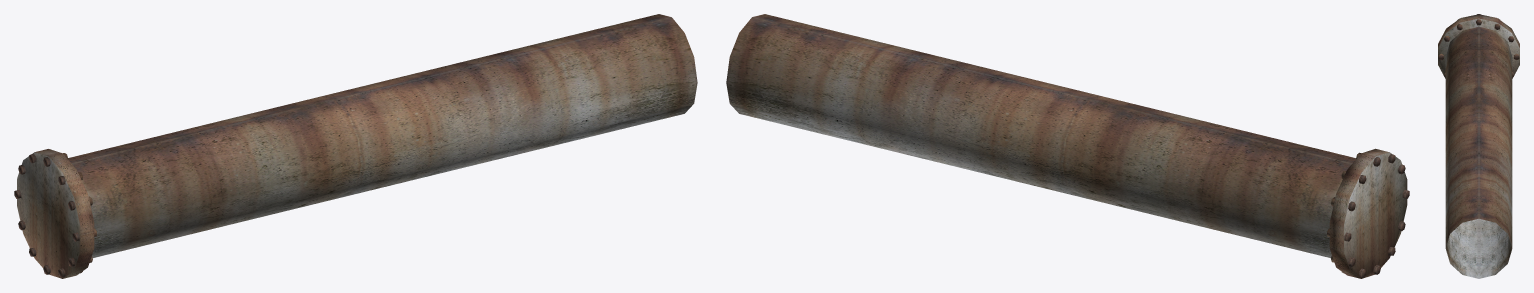
File: pipe_2.obj
3 views of the same model, side by side, from view 1: azimuth 30°, elevation 25°; view 2: azimuth 150°, elevation 25°; view 3: azimuth 270°, elevation 25° (orthographic). The views are drawn at different scales.
Visible parts, largest first — view 1: pipe_2.obj; view 2: pipe_2.obj; view 3: pipe_2.obj.
Boxes of the visible parts, x1,y1,x2,y2 form: pipe_2.obj: (14,14,697,278); pipe_2.obj: (726,14,1409,278); pipe_2.obj: (1438,14,1519,278).
Bounding box in the file's own units: 6.94 × 1.25 × 1.22.
Materials: 1 (1 with a texture image).
